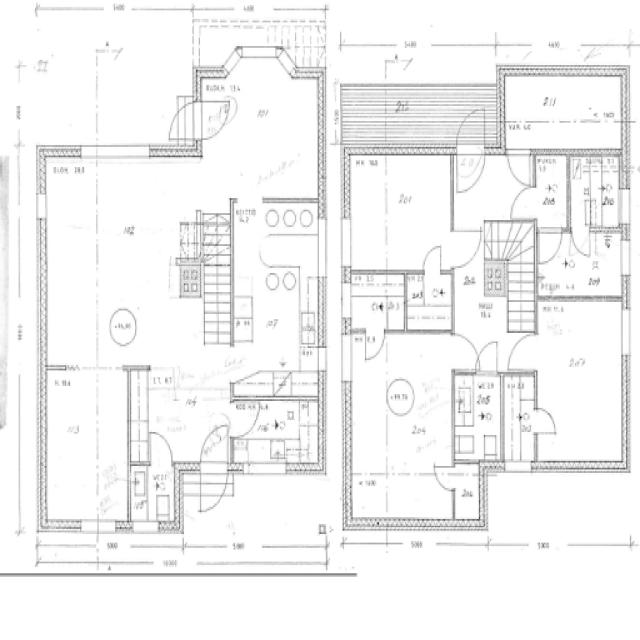door: (198, 422, 230, 513), (453, 107, 486, 192), (164, 95, 200, 148), (450, 223, 484, 271), (504, 329, 539, 375), (198, 96, 232, 140), (448, 330, 478, 373), (231, 397, 261, 439), (505, 144, 534, 187), (145, 427, 175, 468), (473, 335, 501, 377), (536, 226, 564, 265), (362, 324, 387, 365), (531, 403, 559, 438), (508, 184, 536, 219), (421, 240, 445, 275), (569, 225, 593, 258), (277, 44, 299, 80), (432, 462, 454, 492), (102, 39, 126, 66), (222, 45, 244, 73), (520, 48, 537, 74)
window: (98, 140, 164, 162), (32, 185, 49, 232)
zone: (346, 321, 453, 518), (197, 56, 324, 201), (95, 225, 218, 372), (231, 195, 324, 386), (534, 297, 626, 473), (94, 12, 193, 152), (344, 153, 452, 272), (42, 158, 98, 366), (499, 70, 627, 156), (42, 367, 102, 527), (232, 397, 326, 476), (530, 234, 621, 298), (452, 373, 503, 463), (568, 154, 624, 231), (347, 270, 407, 334), (127, 463, 179, 528), (502, 373, 536, 467), (404, 270, 455, 332), (534, 152, 570, 227), (450, 462, 485, 528), (348, 470, 387, 524)
